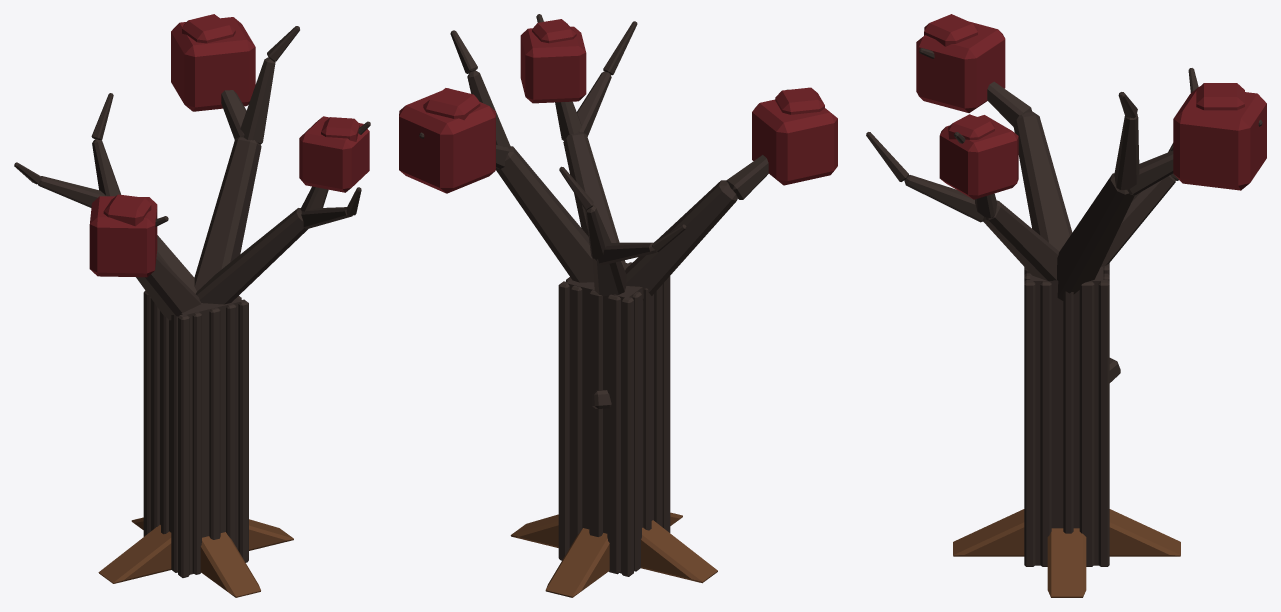
File: DeadOak2.fbx
3 renders of one model, left to right at view 1: azimuth 30°, elevation 25°; view 2: azimuth 150°, elevation 25°; view 3: azimuth 270°, elevation 25°, orthographic. The views are drawn at different scales.
Parts seen in each view (by area): view 1: Trunk, Branch_1, Leaves, LeafBlock_1, Branch_4, LeafBlock_2, Branch_2, Root_3, Root_2, Branch_3, Root_4; view 2: Trunk, Leaves, LeafBlock_1, Branch_1, Branch_3, LeafBlock_2, Branch_4, Branch_2, Root_1, Root_2, Root_4; view 3: Trunk, Leaves, Branch_1, LeafBlock_1, LeafBlock_2, Branch_3, Branch_4, Root_4, Root_1, Root_3, Branch_2.
Boxes of the visible parts, x1,y1,x2,y2 form: Trunk: [143, 290, 248, 577]; Branch_1: [194, 26, 299, 291]; Leaves: [171, 14, 255, 111]; LeafBlock_1: [89, 194, 157, 277]; Branch_4: [196, 121, 370, 304]; LeafBlock_2: [299, 116, 369, 192]; Branch_2: [14, 93, 196, 293]; Root_3: [200, 532, 260, 597]; Root_2: [98, 525, 171, 583]; Branch_3: [136, 216, 201, 320]; Root_4: [249, 519, 293, 550]; Trunk: [558, 262, 670, 576]; Leaves: [399, 88, 495, 193]; LeafBlock_1: [752, 87, 837, 185]; Branch_1: [419, 30, 593, 282]; Branch_3: [625, 89, 788, 300]; LeafBlock_2: [520, 19, 586, 103]; Branch_4: [536, 14, 637, 270]; Branch_2: [559, 166, 686, 296]; Root_1: [545, 528, 609, 597]; Root_2: [641, 520, 717, 583]; Root_4: [510, 514, 558, 547]; Trunk: [1024, 263, 1109, 566]; Leaves: [1173, 83, 1266, 190]; Branch_1: [1057, 92, 1262, 300]; LeafBlock_1: [916, 14, 1005, 112]; LeafBlock_2: [939, 114, 1018, 199]; Branch_3: [919, 48, 1072, 251]; Branch_4: [866, 132, 1059, 281]; Root_4: [1047, 528, 1086, 597]; Root_1: [1109, 509, 1180, 556]; Root_3: [953, 509, 1024, 556]; Branch_2: [1101, 68, 1198, 266].
Bounding box in the file's own units: 12.62 × 20.29 × 14.05.
